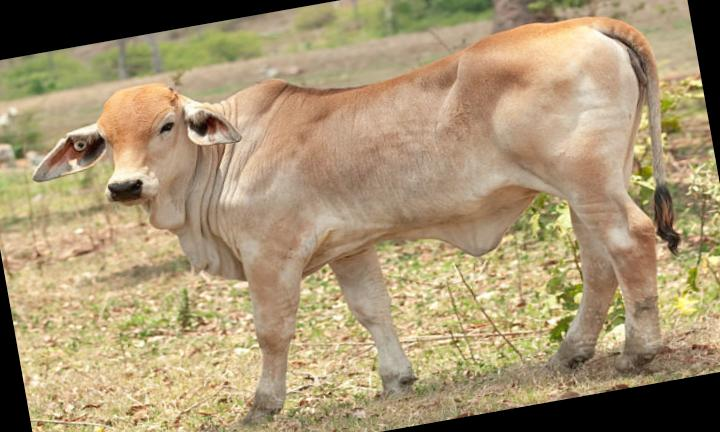Brahman: (33, 17, 678, 421)
